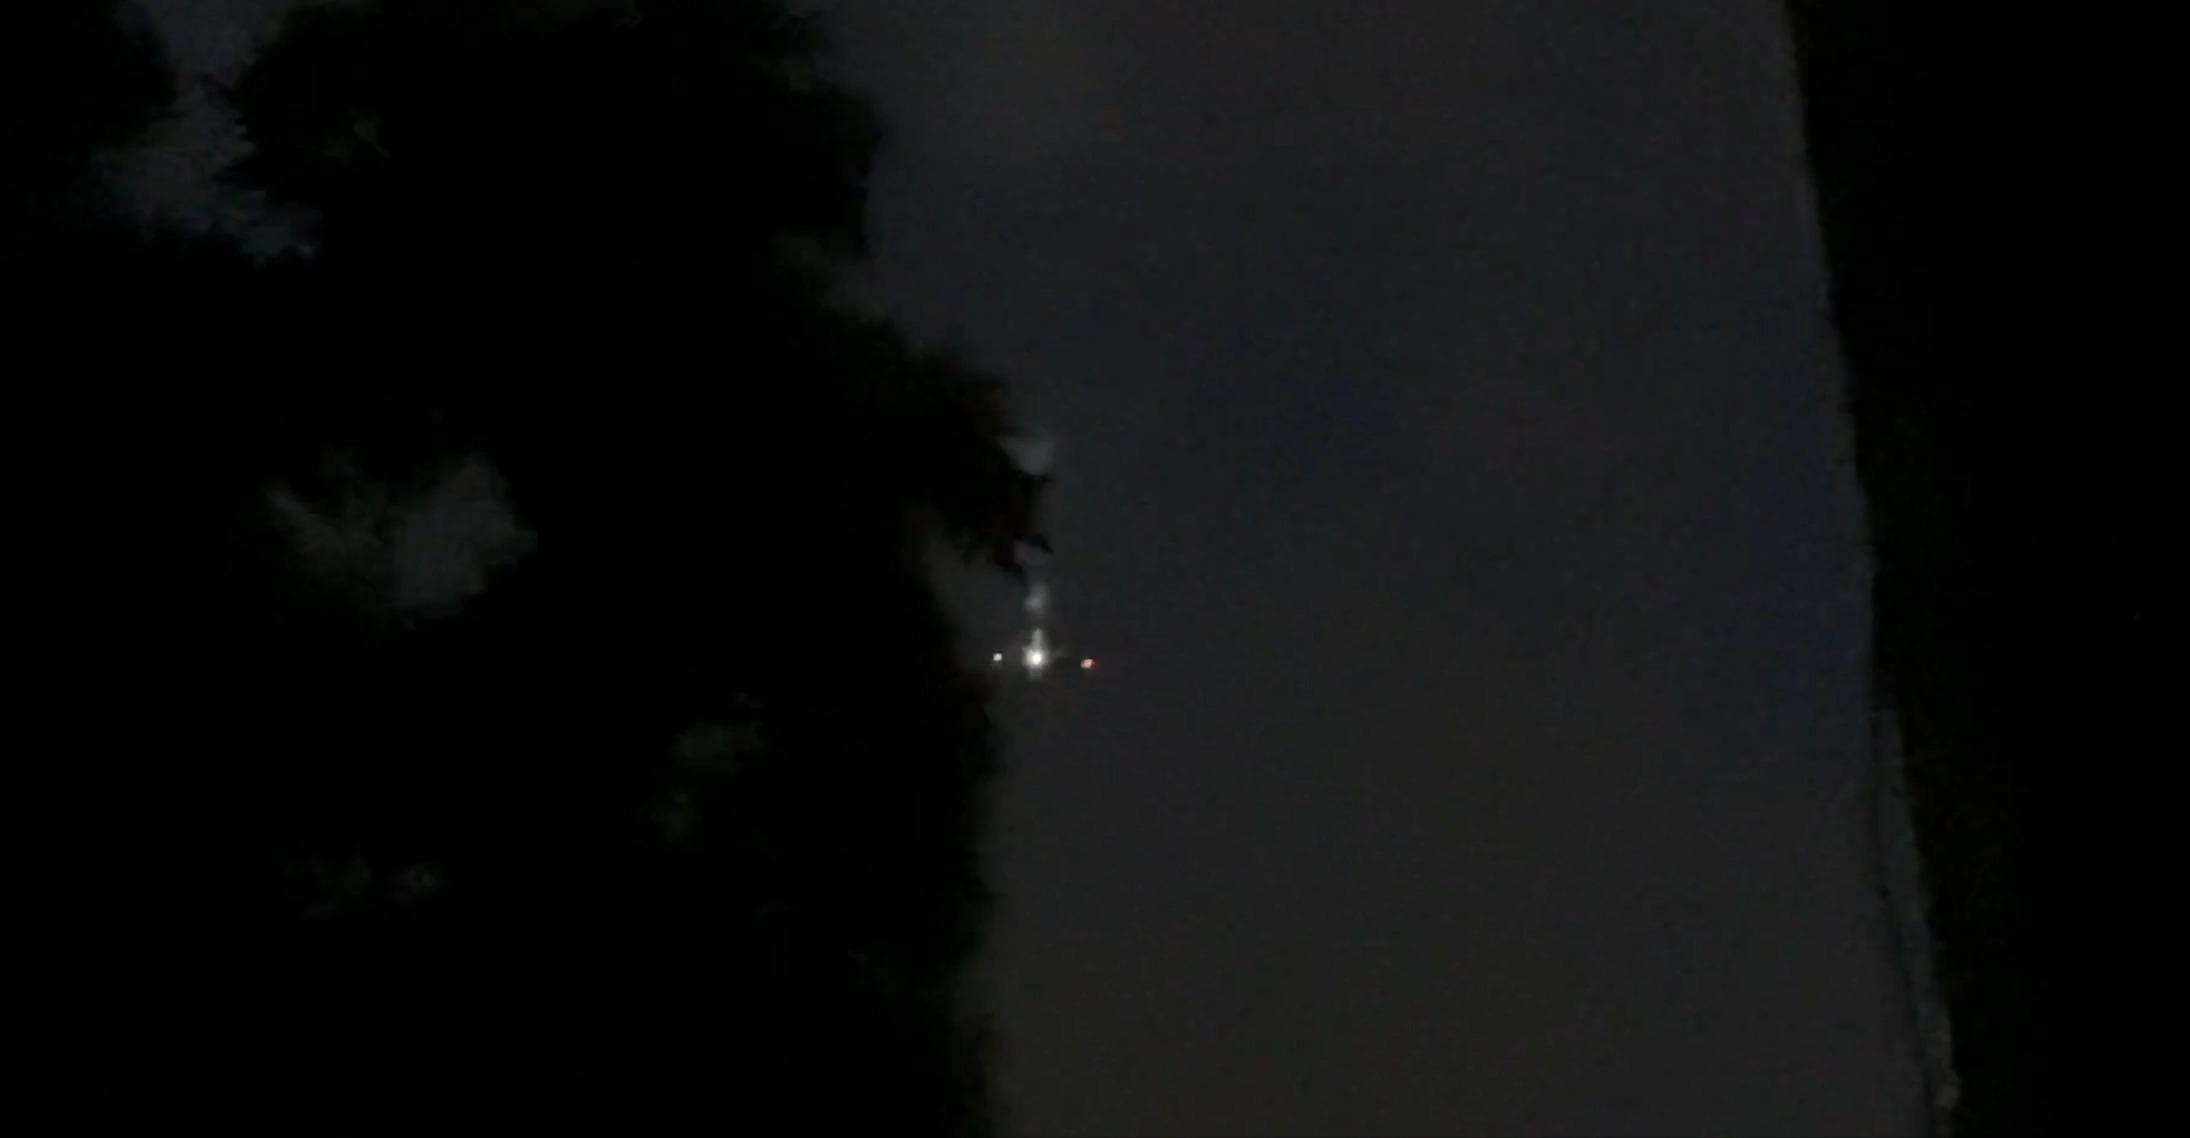Plane: (966, 615, 1114, 718)
